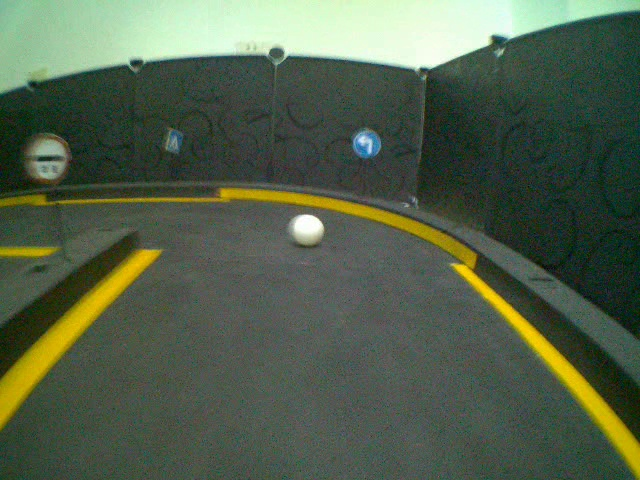ball: (292, 212, 324, 247)
